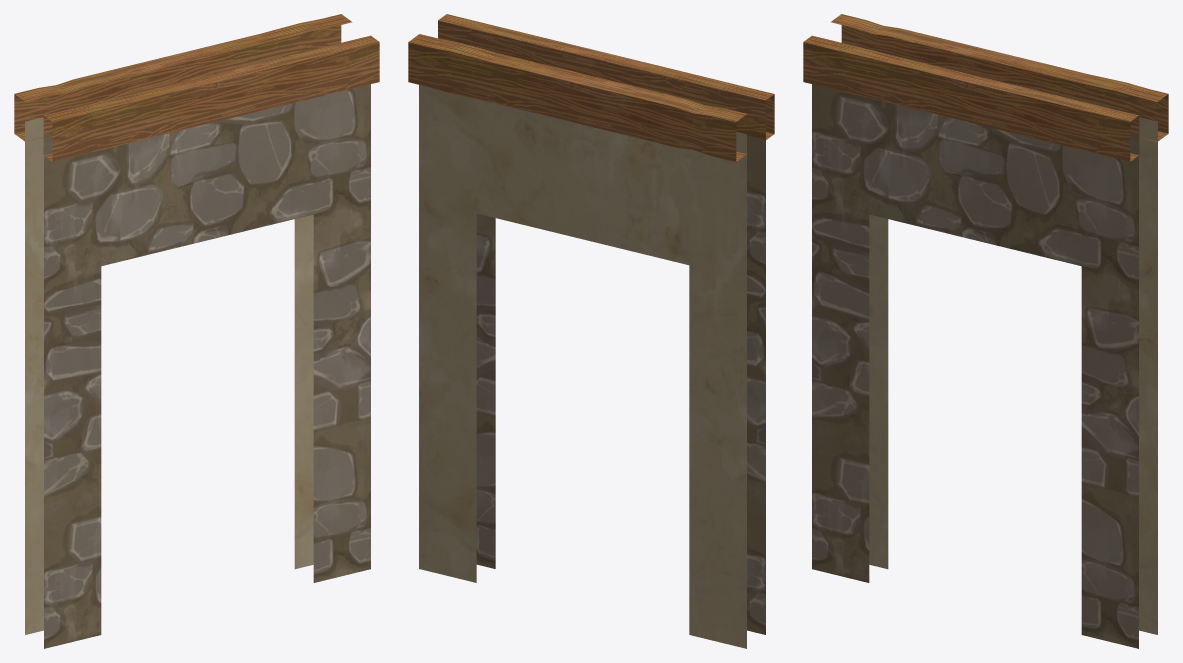
Rendered from Wall_UnevenBrick_Door_Flat.glb.
The picture shows the model from 3 angles, left to right: view 1: azimuth 30°, elevation 25°; view 2: azimuth 150°, elevation 25°; view 3: azimuth 330°, elevation 25°; orthographic projection.
Visible parts, largest first — view 1: Wall_UnevenBrick_Door_Flat; view 2: Wall_UnevenBrick_Door_Flat; view 3: Wall_UnevenBrick_Door_Flat.
Boxes of the visible parts, x1,y1,x2,y2 form: Wall_UnevenBrick_Door_Flat: (14, 14, 379, 648); Wall_UnevenBrick_Door_Flat: (408, 14, 774, 648); Wall_UnevenBrick_Door_Flat: (803, 14, 1168, 648).
Bounding box in the file's own units: 2 × 3.12 × 0.4064.
3 materials, 3 textured.
